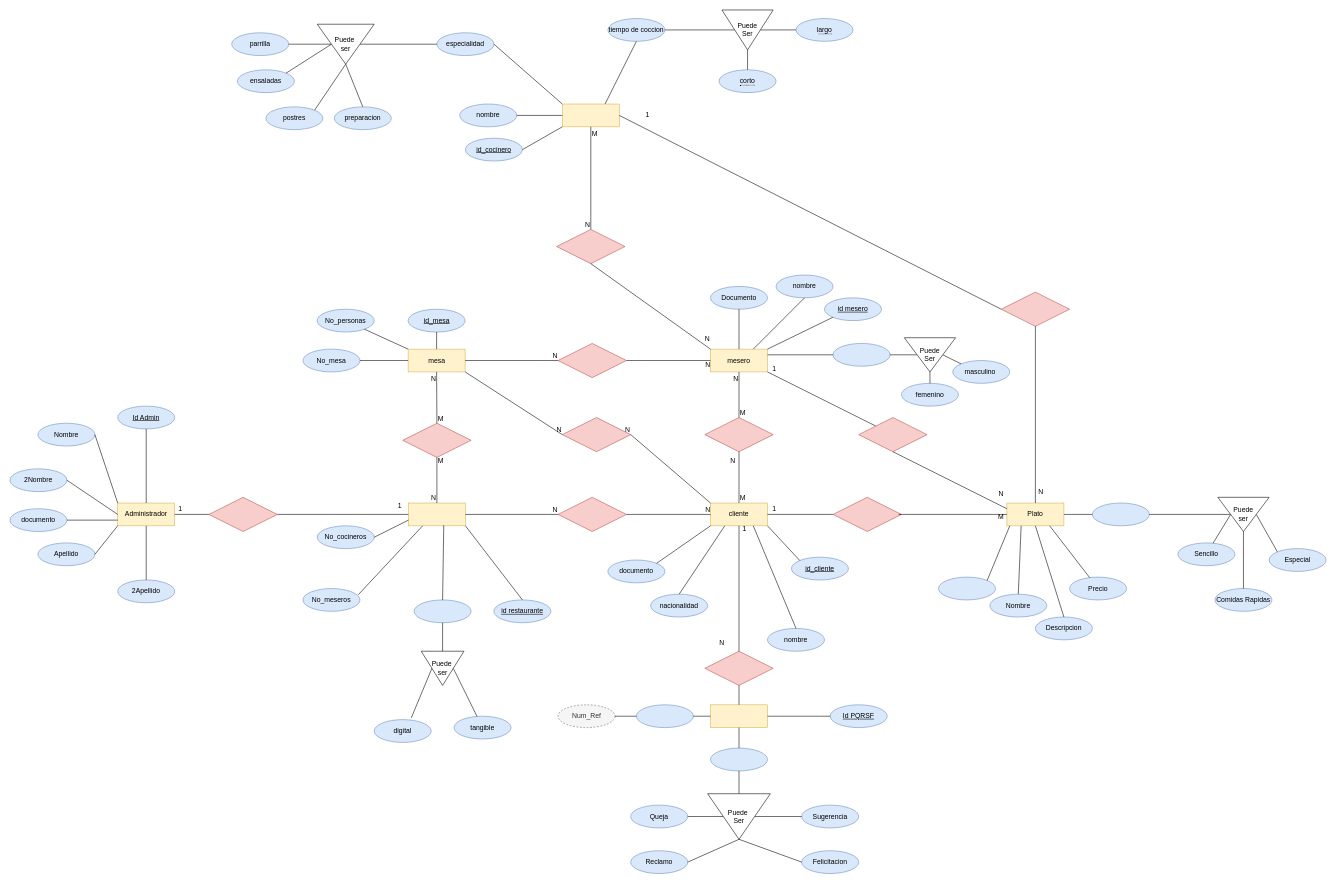
The diagram is 1336 pixels wide and 884 high, and some of its shapes have lost their labels. Here are the shapes that lost their labels. From the top down, the centre of each, then its label:
point (590, 115): cocinero
point (590, 246): manda orden
point (1035, 309): Prepara
point (591, 360): es atendida
point (861, 354): Sexo
point (436, 440): Tiene
point (596, 434): puede estar
point (738, 434): atiende
point (892, 434): Entrega
point (242, 514): Cuenta
point (436, 514): restaurante
point (591, 514): puede ir
point (866, 514): Pide
point (1120, 514): Tipo
point (967, 588): Id Plato
point (442, 611): carta
point (738, 668): Puede
point (664, 716): Num_PQRSF
point (739, 716): PQRSF
point (739, 759): Tipo_PQRSF
